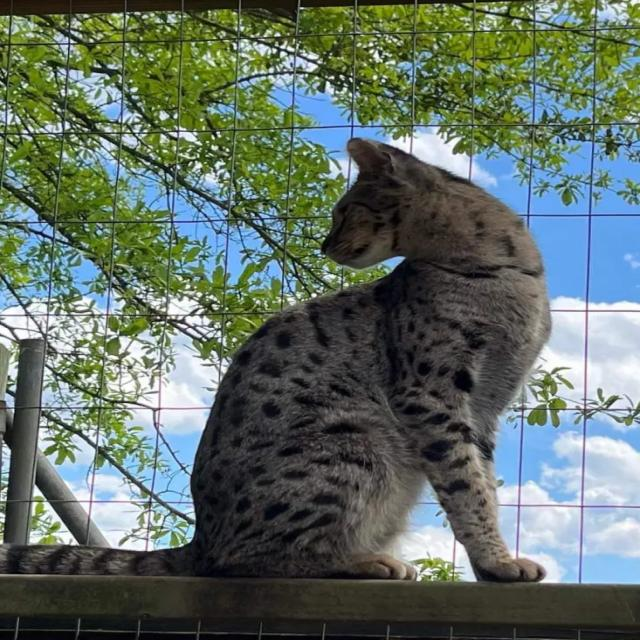Savannah: (0, 130, 563, 588)
